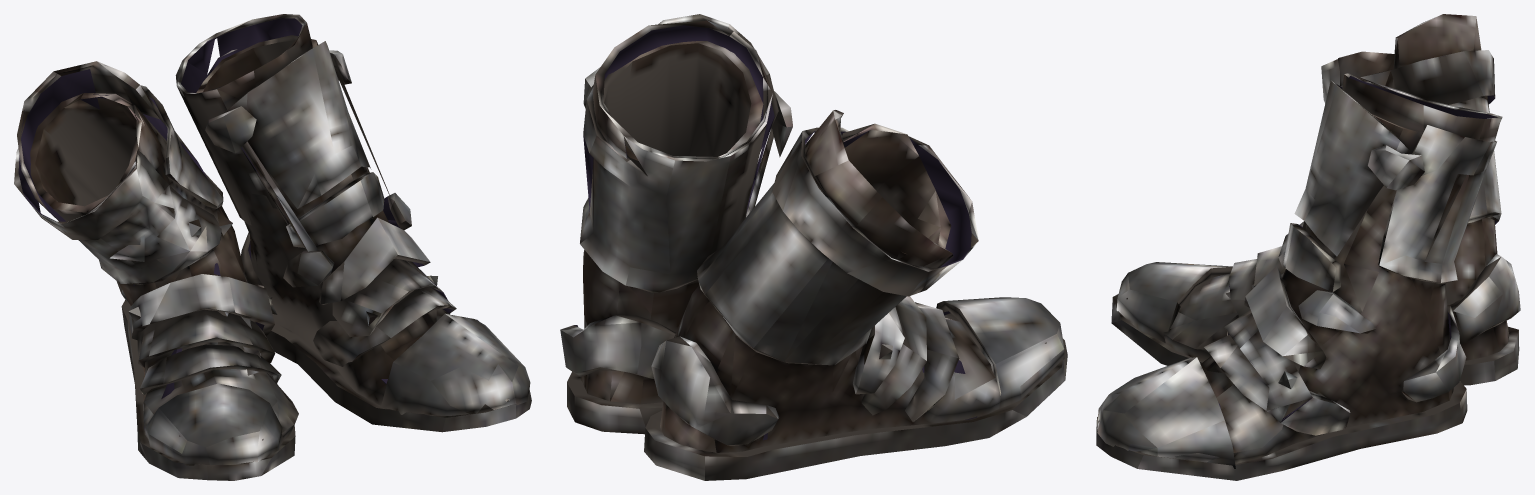
The model's file is item_6boots4.glb.
The picture shows the model from 3 angles, left to right: view 1: azimuth 30°, elevation 25°; view 2: azimuth 150°, elevation 25°; view 3: azimuth 270°, elevation 25°; orthographic projection. The views are drawn at different scales.
Parts seen in each view (by area): view 1: equipment_6boots4; view 2: equipment_6boots4; view 3: equipment_6boots4.
Part boxes in pixels (x1,y1,x2,y2): equipment_6boots4: [14, 14, 531, 480]; equipment_6boots4: [560, 14, 1067, 480]; equipment_6boots4: [1096, 14, 1520, 480].
Bounding box in the file's own units: 1 × 0.8565 × 0.9669.
Materials: 2 (1 with a texture image).
